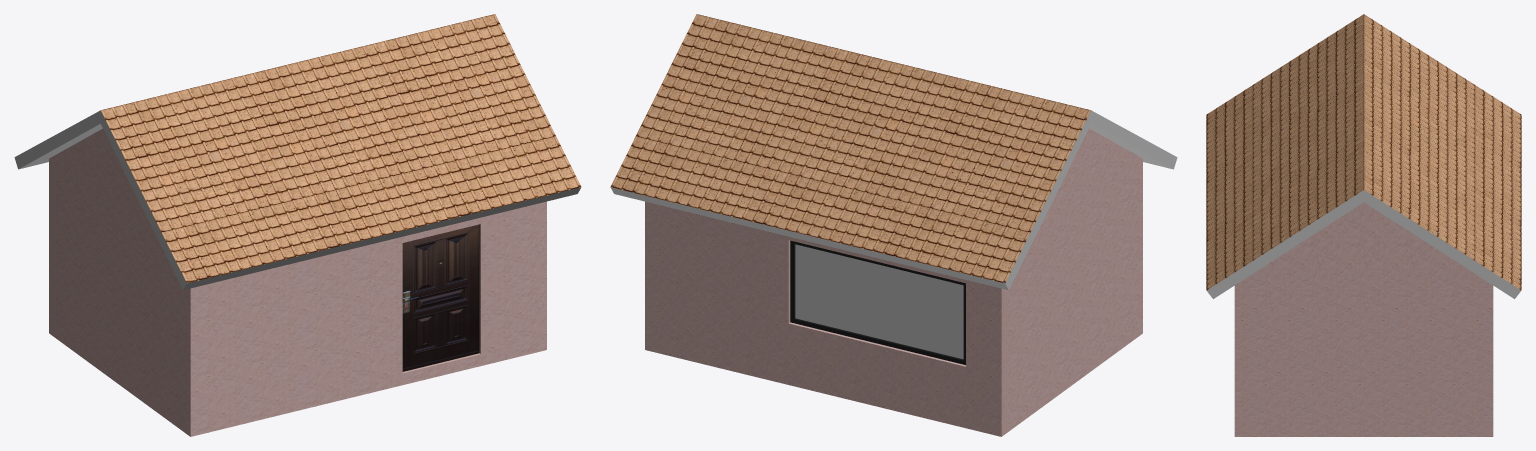
The model's file is house.fbx.
3 renders of one model, left to right at view 1: azimuth 30°, elevation 25°; view 2: azimuth 150°, elevation 25°; view 3: azimuth 270°, elevation 25°, orthographic. The views are drawn at different scales.
Visible parts, largest first — view 1: Walls+Roof, Door; view 2: Walls+Roof, Window0; view 3: Walls+Roof.
Part boxes in pixels (x1=…): Walls+Roof: x1=14, y1=14, x2=581, y2=436; Door: x1=402, y1=224, x2=479, y2=371; Walls+Roof: x1=610, y1=14, x2=1177, y2=436; Window0: x1=790, y1=240, x2=965, y2=364; Walls+Roof: x1=1206, y1=14, x2=1521, y2=436.
Bounding box in the file's own units: 7.09 × 4.8 × 5.36.
